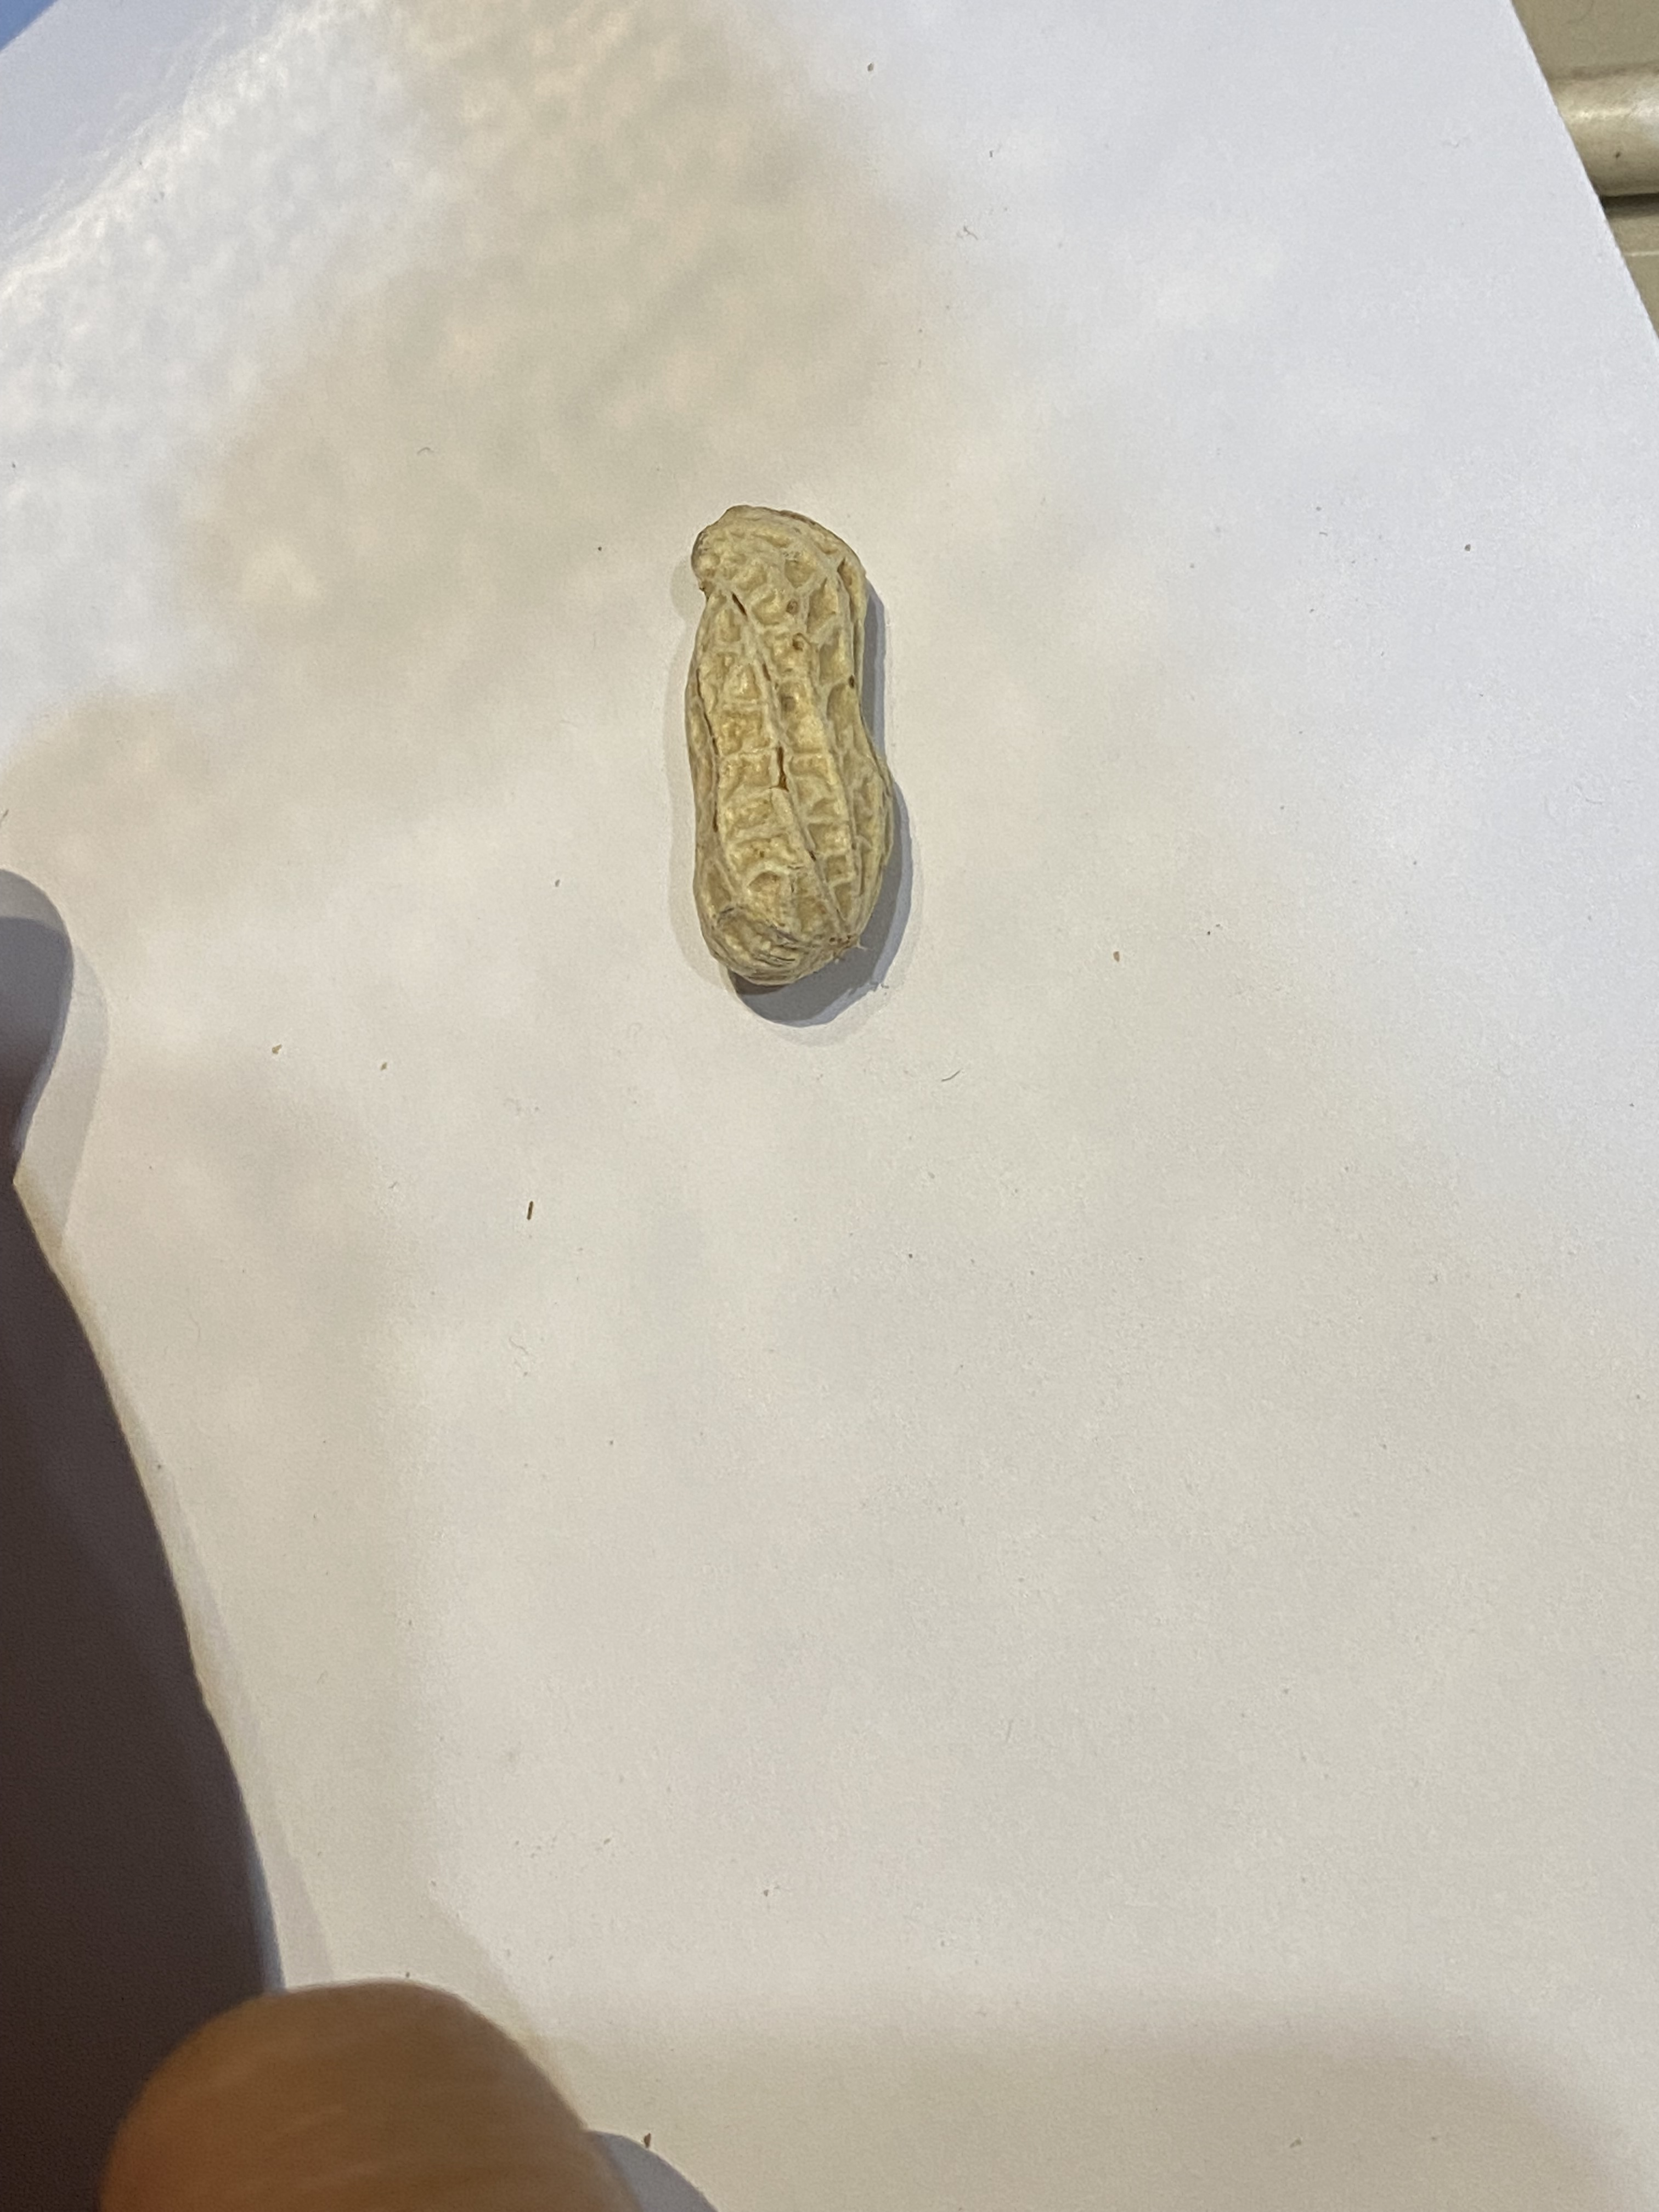kacang2: (648, 503, 941, 1000)
